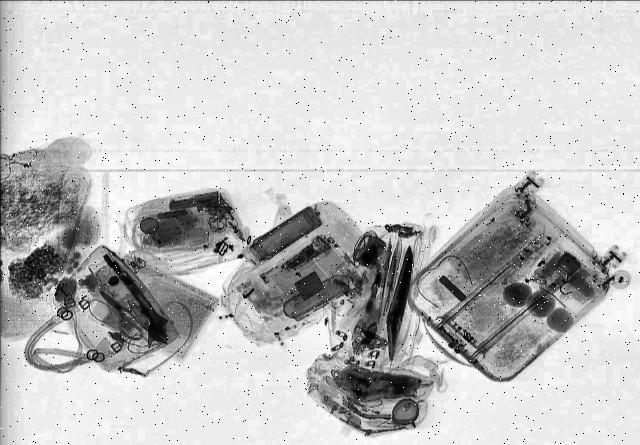Wrench: (104, 268, 180, 346)
